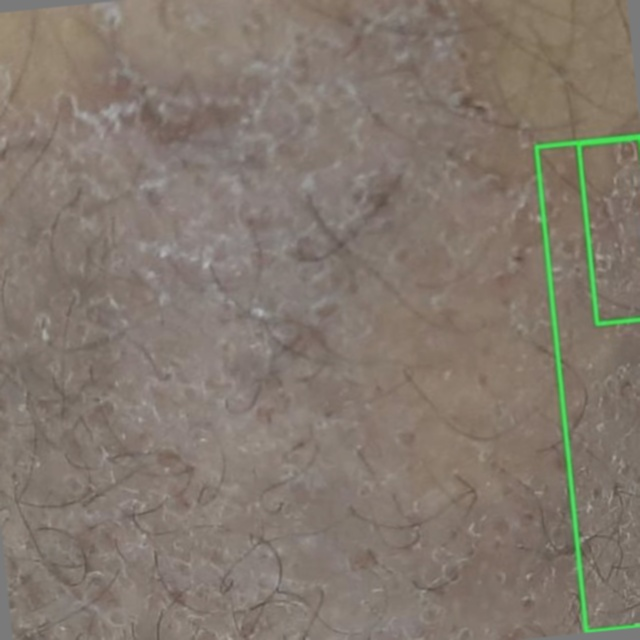Eczema: (536, 136, 639, 631), (578, 137, 639, 323)
